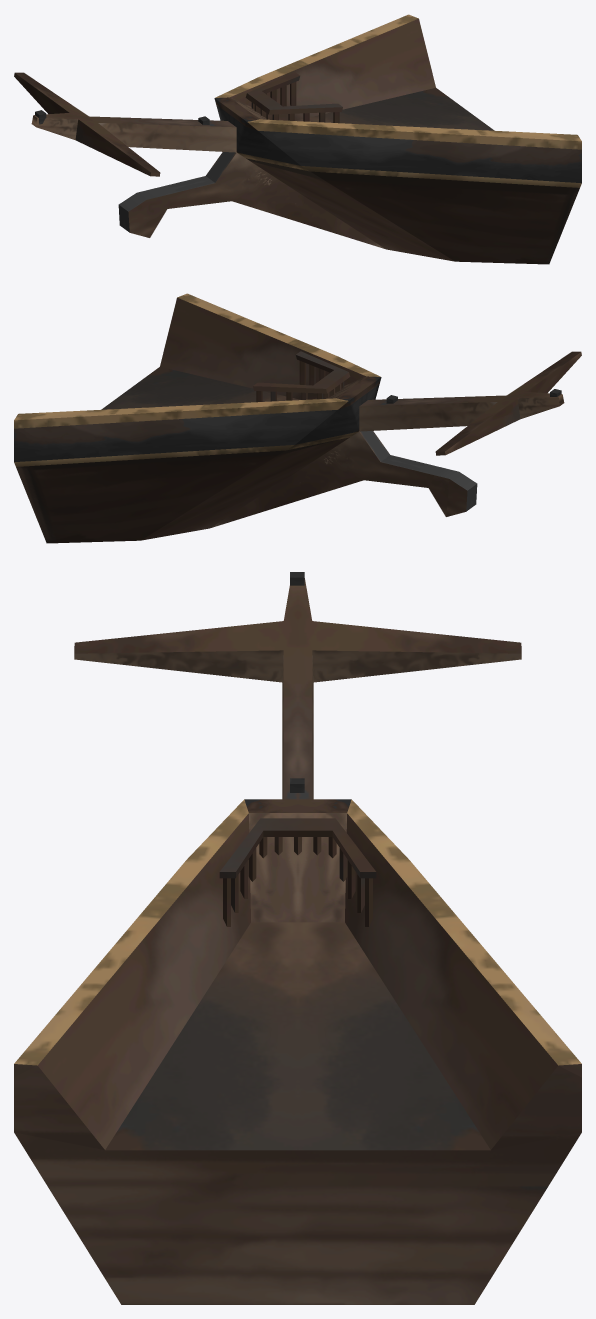
The model's file is M_hune_3.fbx.
The picture shows the model from 3 angles, top to bottom: view 1: azimuth 30°, elevation 25°; view 2: azimuth 150°, elevation 25°; view 3: azimuth 270°, elevation 25°; orthographic projection. The views are drawn at different scales.
Parts seen in each view (by area): view 1: polySurface333; view 2: polySurface333; view 3: polySurface333.
Boxes of the visible parts, <box> form: polySurface333: <box>14,14,581,264</box>; polySurface333: <box>14,293,581,543</box>; polySurface333: <box>14,572,581,1304</box>.
Bounding box in the file's own units: 786 × 362 × 508.
Materials: 1 (1 with a texture image).
